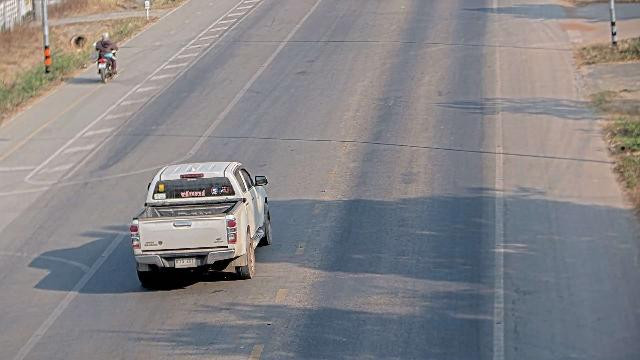motorcycle: (92, 40, 118, 84)
pickup-truck: (129, 160, 272, 288)
